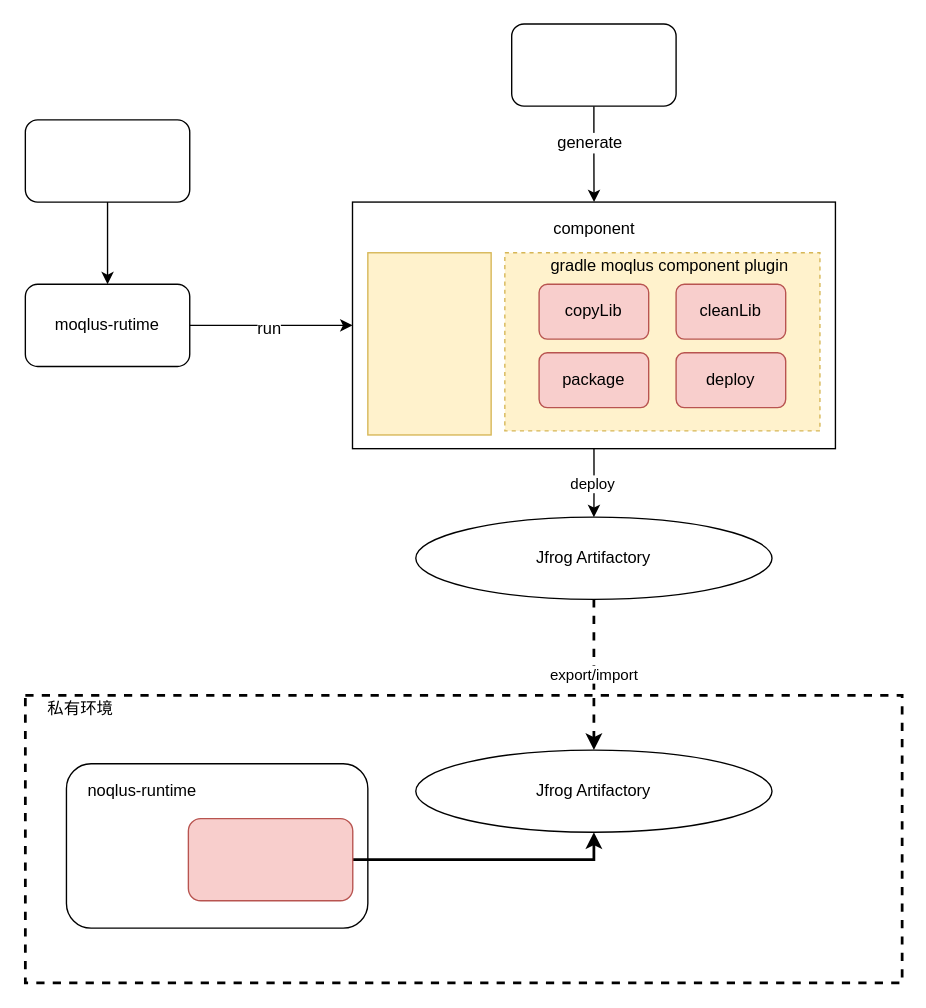
The diagram is 926 pixels wide and 1008 high, and some of its shapes have lost their labels. Here are the shapes that lost their labels. From the top down, the box of each, then its label:
(510, 23, 676, 106): gradle-template
(24, 119, 190, 202): moqlus-source
(366, 251, 491, 435): entity service screen l10n script src
(187, 817, 353, 901): 插件管理
